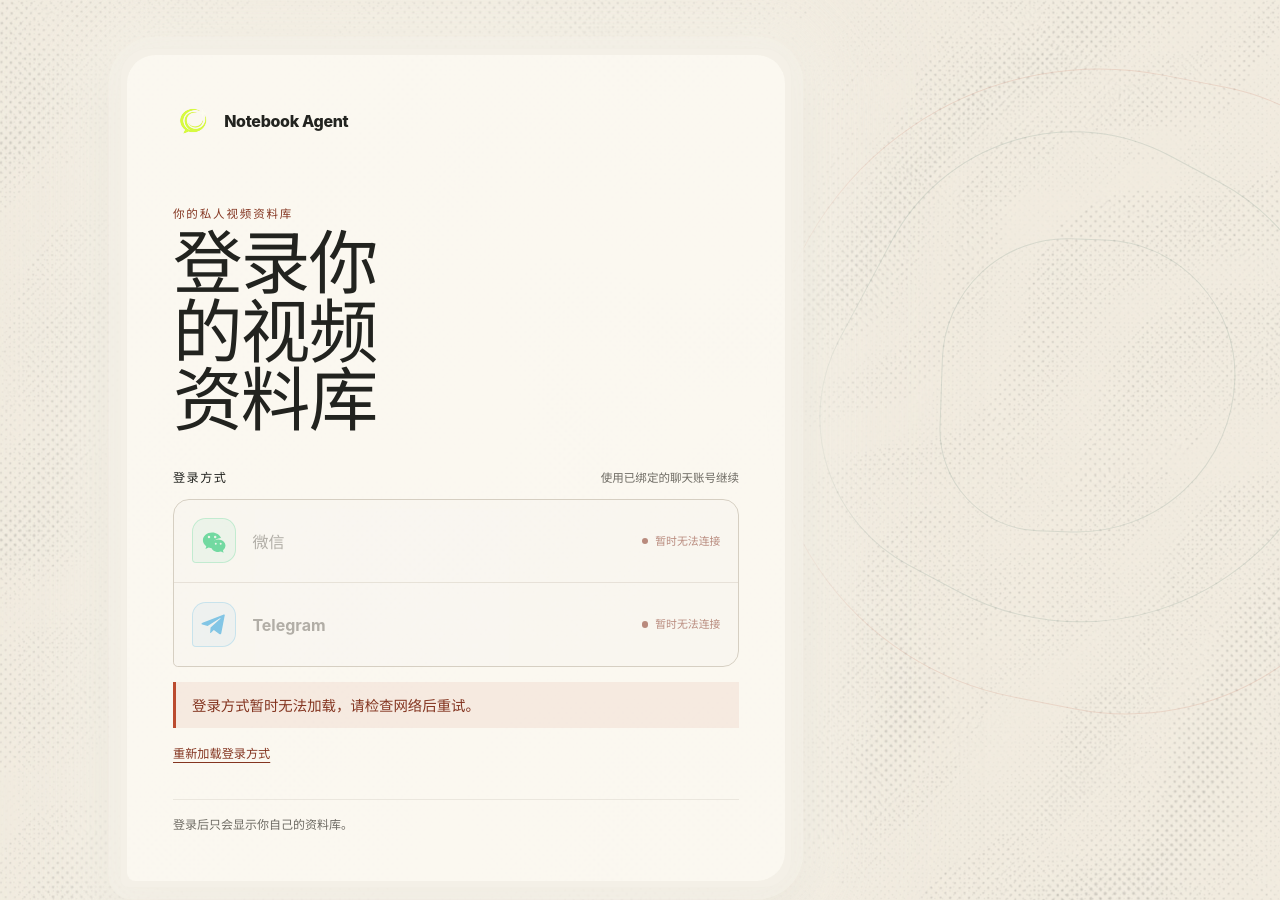
it: login page › keeps channel entries visible with a retryable status when capabilities fail
The image size is (1280, 900).
expect the message shows "登录方式暂时无法加载": met, box [192, 697, 480, 714]
expect the button with aria-label "使用 Telegram 登录" is disabled: met, box [174, 583, 738, 666]
Click the button with aria-label "重试".
click(222, 753)  # box [173, 731, 270, 775]
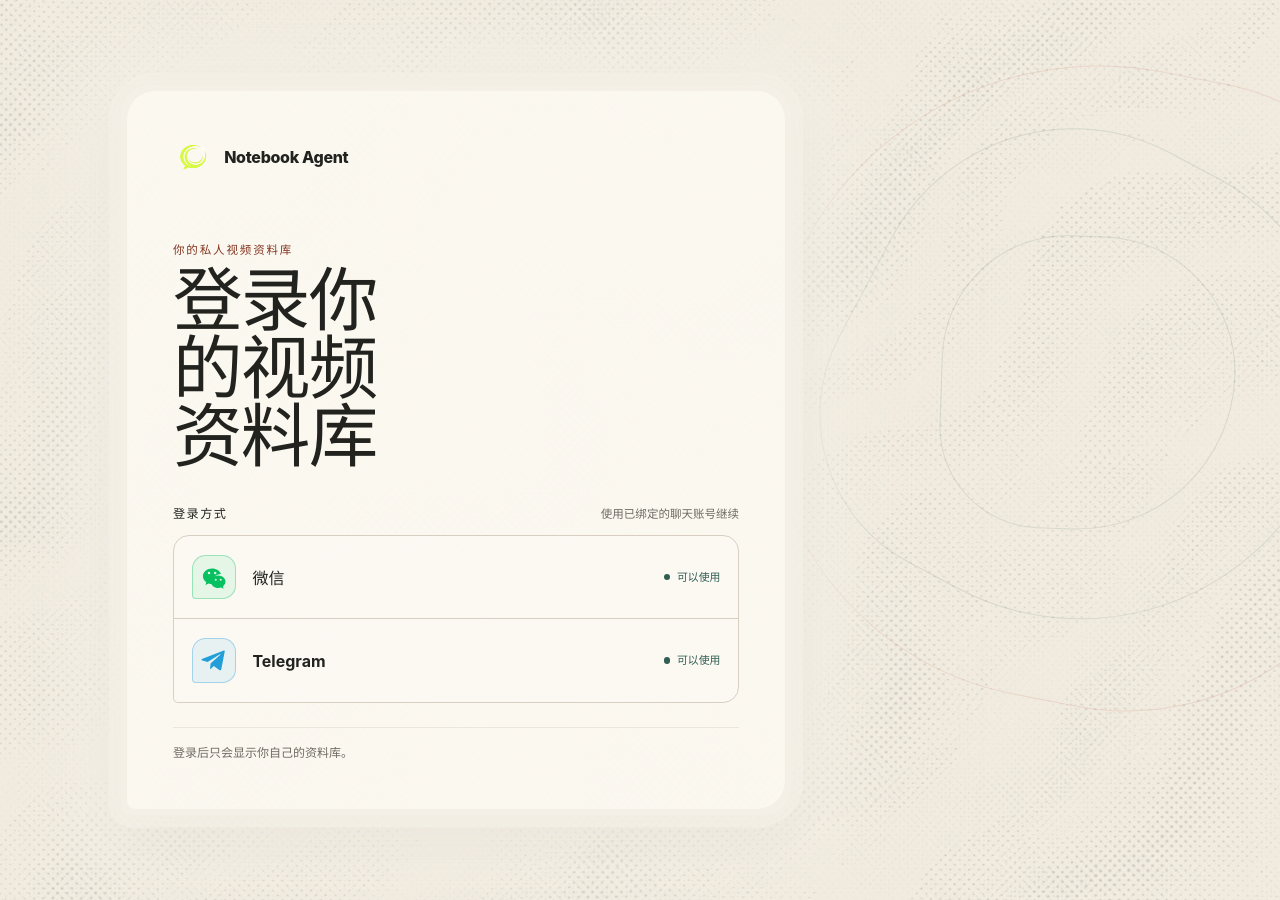
expect the button with aria-label "使用微信登录" is enabled: met, box [174, 536, 738, 619]
